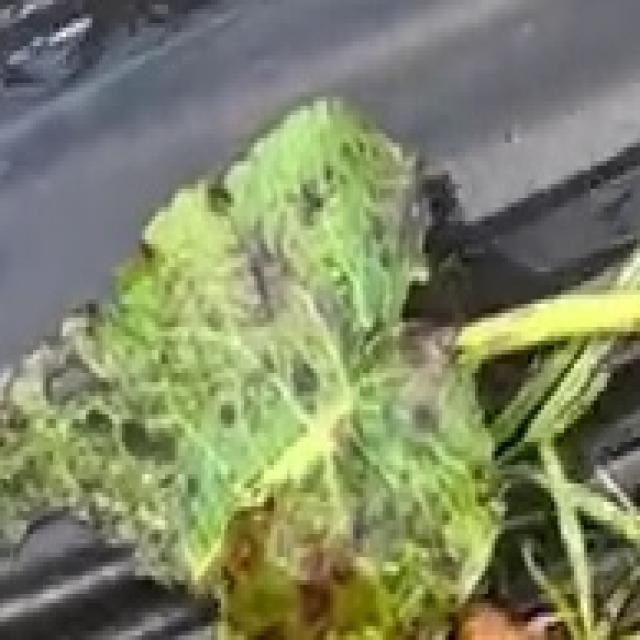organic waste: (0, 105, 567, 575)
